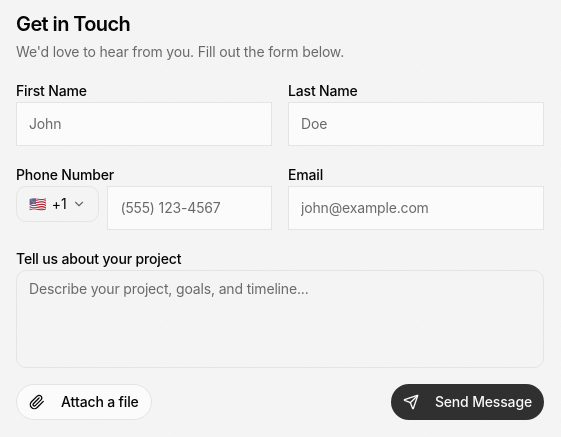
Test: ContactFormSection — contact-form block › a valid submission calls the mutation exactly once with the submitted values
Type "Ada" into the field labelled "First Name".
click(144, 124); type("Ada")  # box [16,102,272,146]
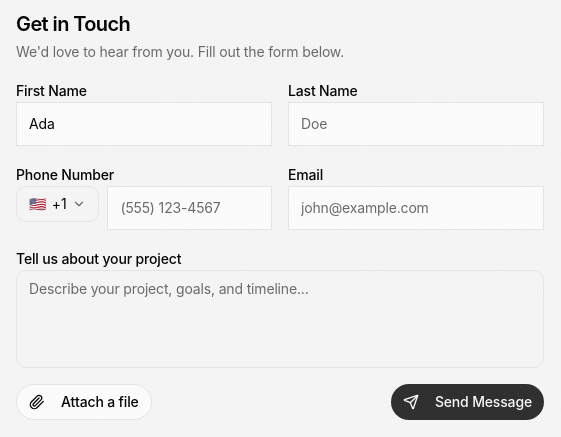
Type "Lovelace" into the field labelled "Last Name".
click(416, 124); type("Lovelace")  # box [288,102,544,146]
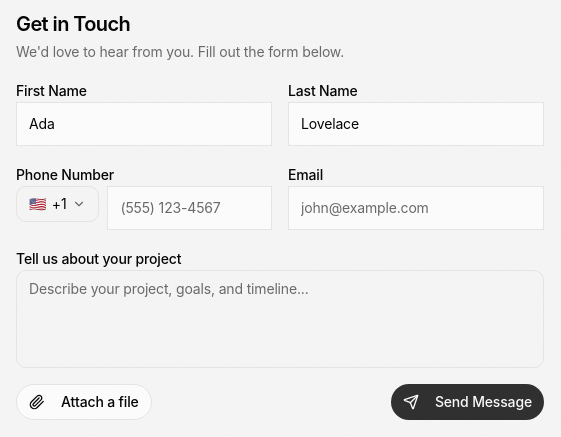
Type "I need help with X." into the text box labelled "Tell us about your project".
click(280, 319); type("I need help with X.")  # box [16,270,544,368]
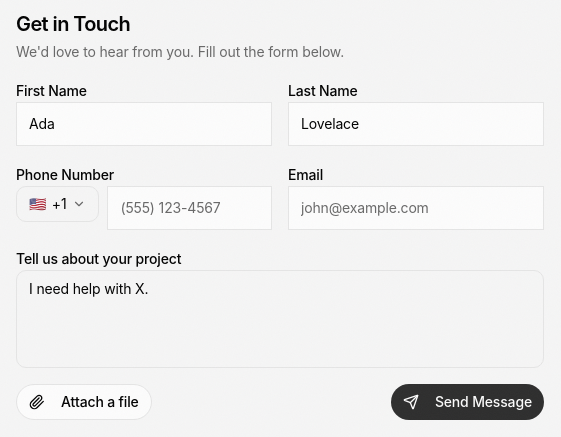
Type "ada@example.com" into the field labelled "Email".
click(416, 208); type("ada@example.com")  # box [288,186,544,230]
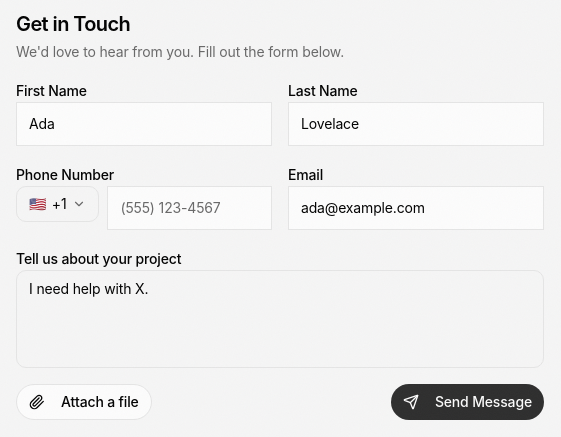
Click the button "Send Message".
click(467, 402)  # box [391,384,544,420]
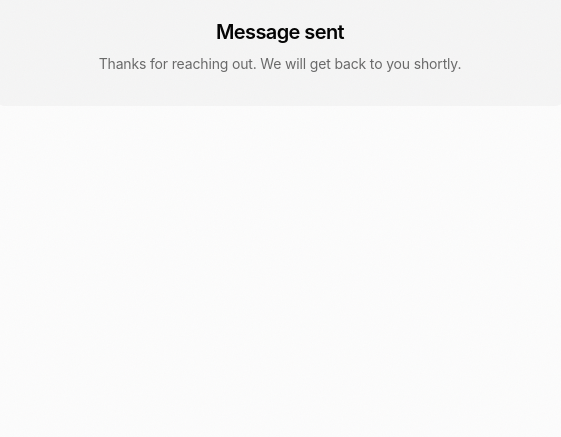
Result: the heading "Message sent" is shown at [216,20,344,44]
